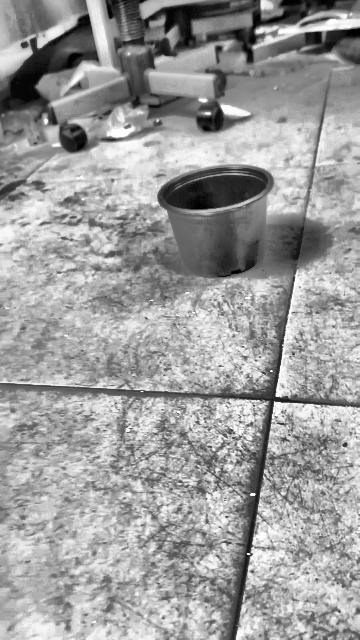pot: (157, 165, 273, 276)
